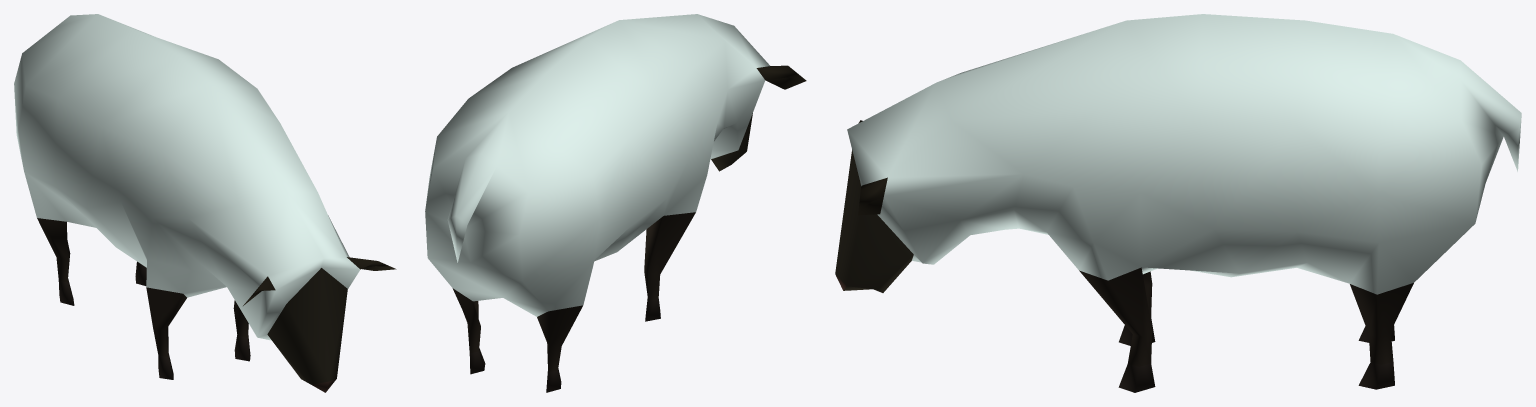
The model's file is Sheep-ver1.fbx.
3 views of the same model, side by side, from view 1: azimuth 30°, elevation 25°; view 2: azimuth 150°, elevation 25°; view 3: azimuth 270°, elevation 25° (orthographic). The views are drawn at different scales.
Parts seen in each view (by area): view 1: Sheep-ver1; view 2: Sheep-ver1; view 3: Sheep-ver1.
Part boxes in pixels (x1,y1,x2,y2): Sheep-ver1: (14, 14, 396, 392); Sheep-ver1: (425, 14, 806, 392); Sheep-ver1: (835, 14, 1521, 392).
Bounding box in the file's own units: 0.4199 × 0.681 × 1.2.
